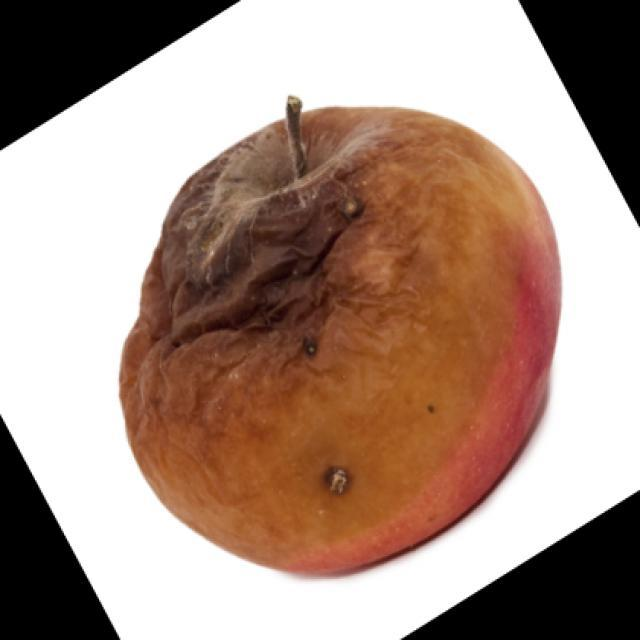Rotten: (145, 108, 555, 582)
